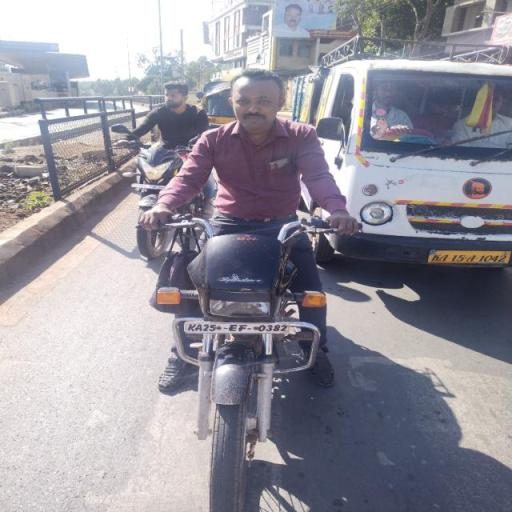bike: (133, 64, 379, 498)
numberplate: (179, 321, 294, 337)
withouthelmet: (232, 72, 286, 128)
